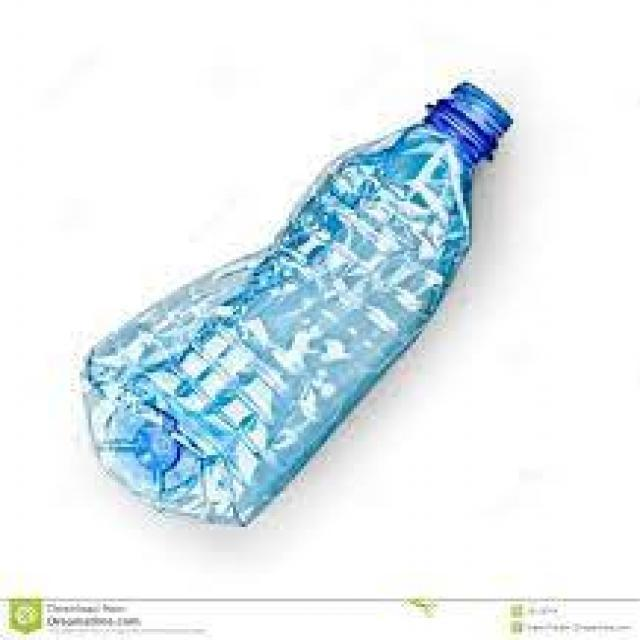plastic_bottle: (80, 80, 513, 527)
